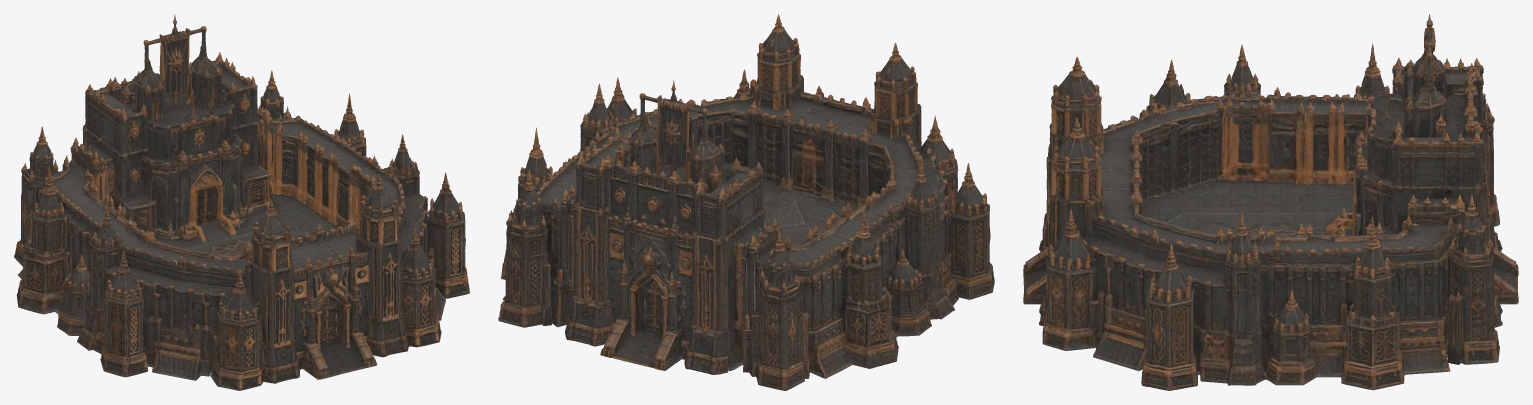
File: DezRoein.glb
The picture shows the model from 3 angles, left to right: view 1: azimuth 30°, elevation 25°; view 2: azimuth 150°, elevation 25°; view 3: azimuth 270°, elevation 25°; orthographic projection. The views are drawn at different scales.
Size of the model in its own units: 1.89 by 1.16 by 1.9.
1 material, 1 textured.
